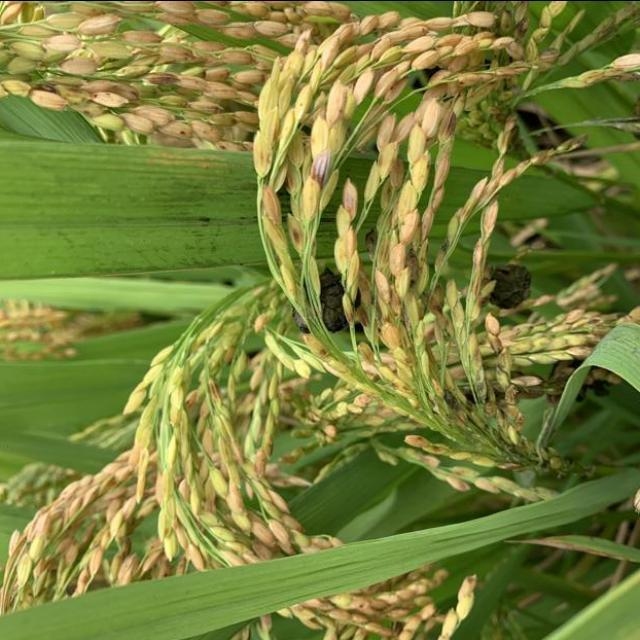Leaf_Scald: (289, 264, 354, 340), (474, 253, 534, 316)
